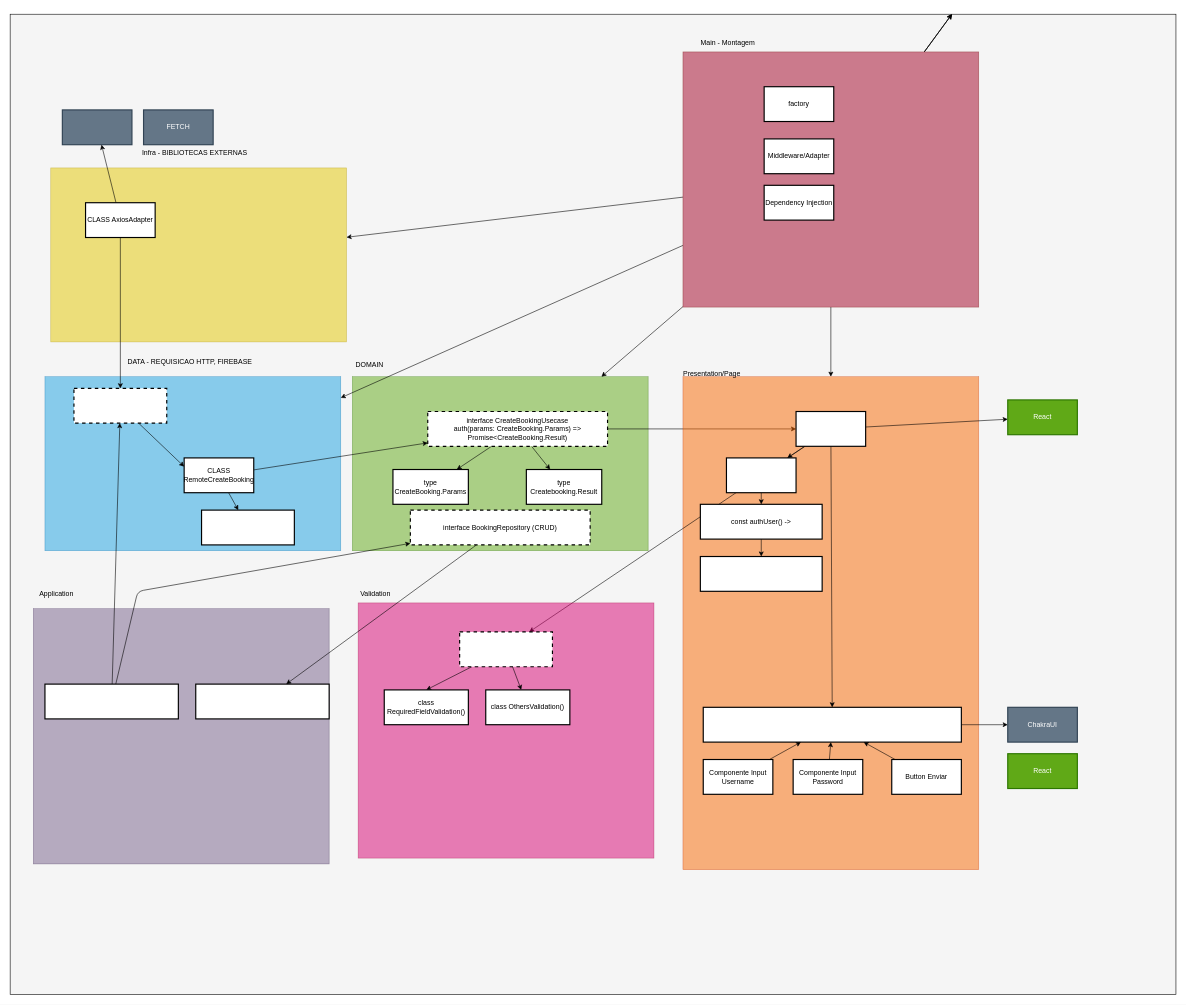
The diagram is 1186 pixels wide and 1005 high, and some of its shapes have lost their labels. Here are the shapes that lost their labels. From the top down, the centre of each, then its label:
At point 96,127: "AXIOS".
At point 120,405: "interface HttpClient request()".
At point 830,429: "Page LoginPage".
At point 761,475: "useCreateBooking()".
At point 248,527: "httpClient.request(body: params) => Promise<Login.Result)".
At point 760,574: "useState<LoginUsecase.Params>{ username: '', password: ''}".
At point 506,649: "interface Validation validation()".
At point 111,701: "CLASS StubServiceCreateBooking".
At point 262,701: "CLASS CacheBookingRepository".
At point 832,724: "Components".
